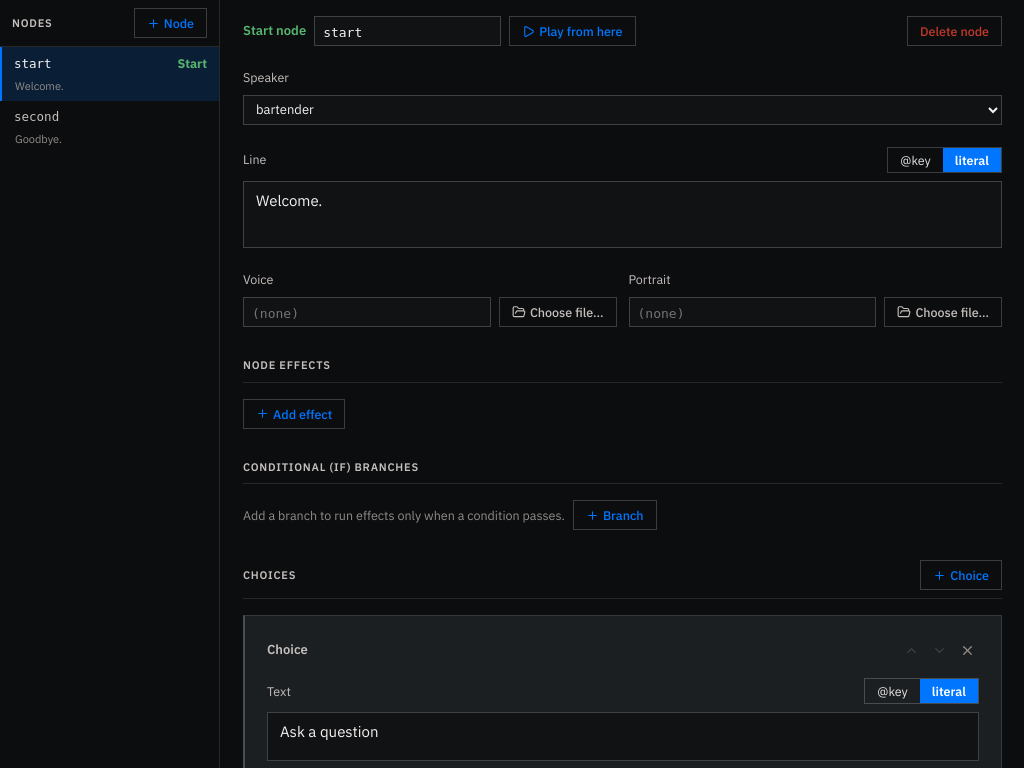
Test: DialogueEditor author journeys › makes a node the start, deletes it, and saves a valid remaining dialogue
Click the button "second Goodbye.". click: x=110, y=128
box: [0,101,219,154]
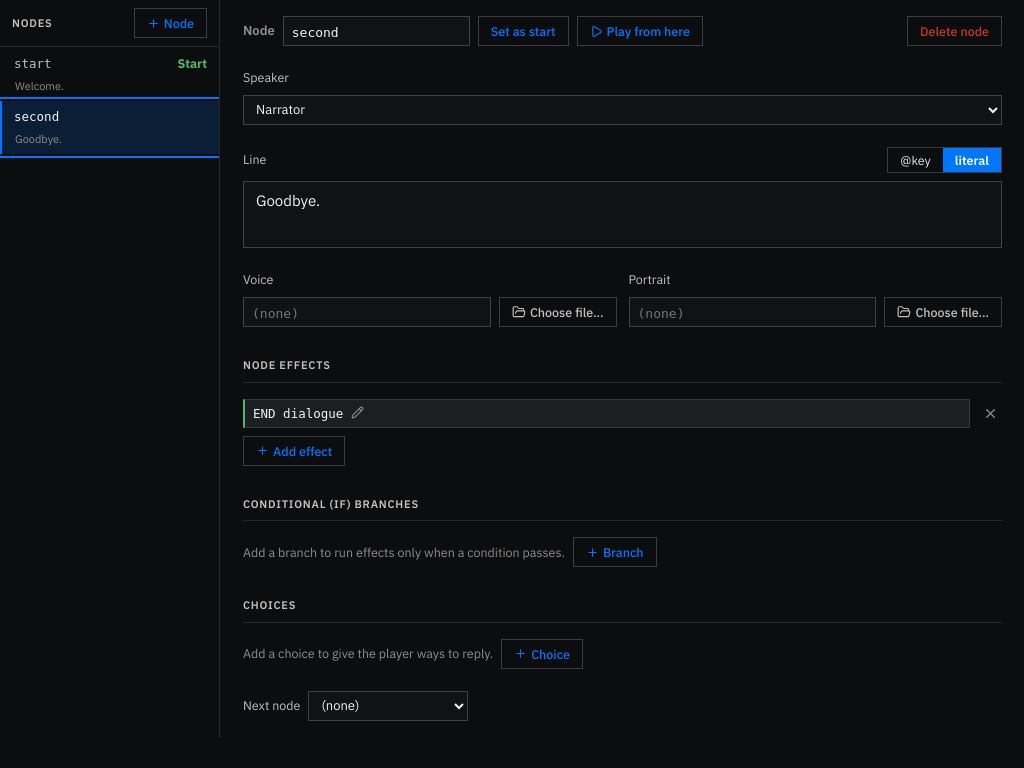
Click the button "Set as start". click: x=523, y=31
box: [478,16,568,46]
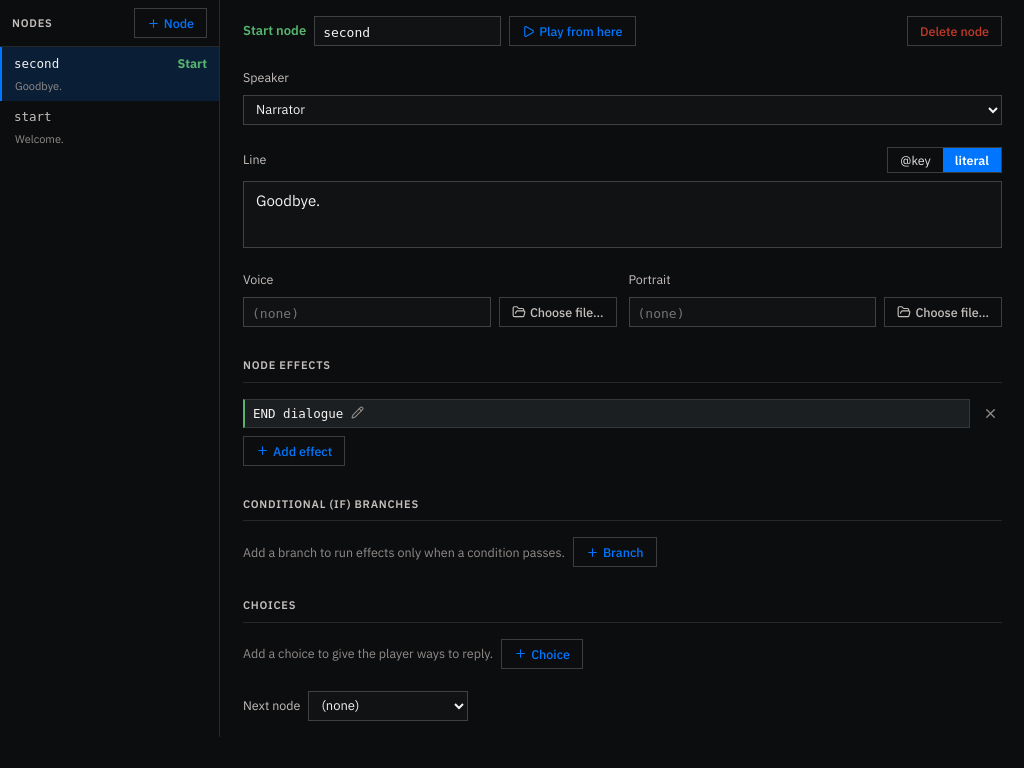
Check: the text "Start" is shown, box [178,55,207,71]
Click the button "Delete node". click: x=954, y=31
box: [907,16,1002,46]
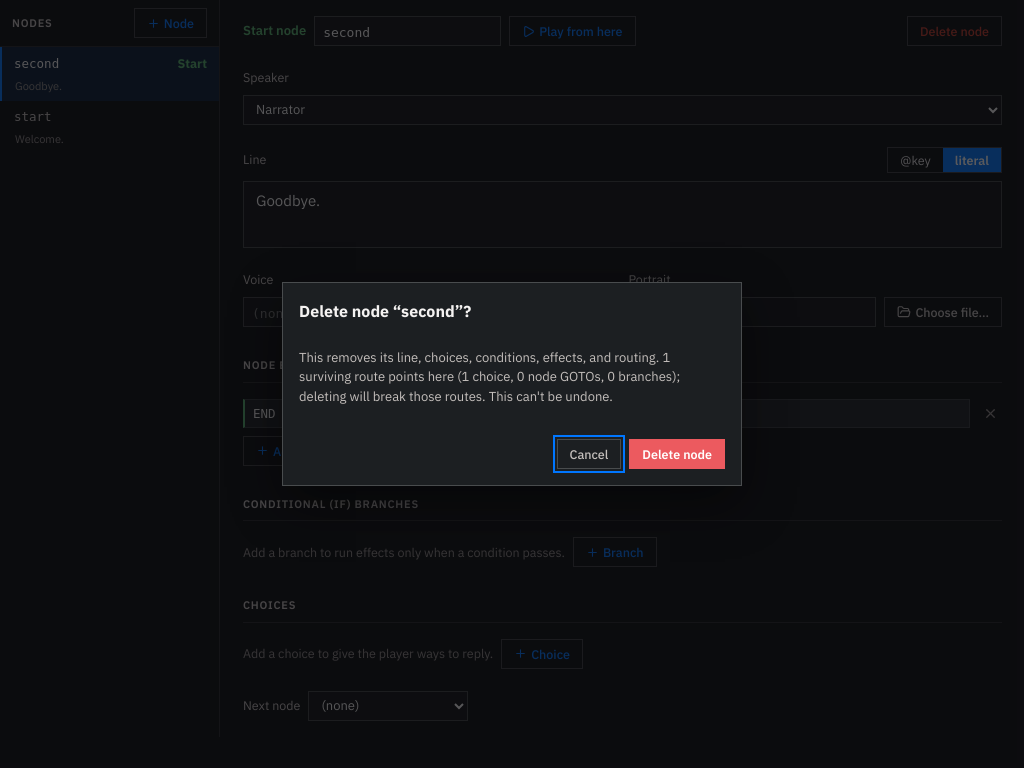
Check: the text "1 surviving route points here (1 choice" is shown, box [299,349,680,405]
Click the button "Delete node". click: x=677, y=454
box: [629,439,725,469]
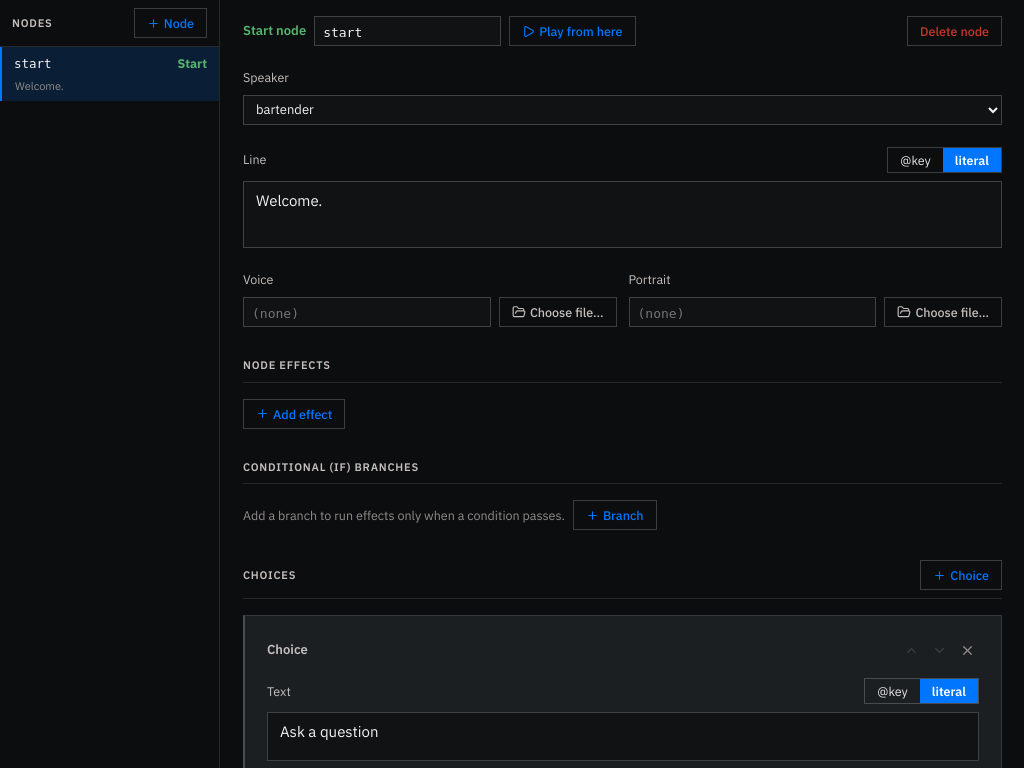
Check: the button "second" is gone
Check: the text box showing "Welcome." is shown, box [243,181,1002,248]
